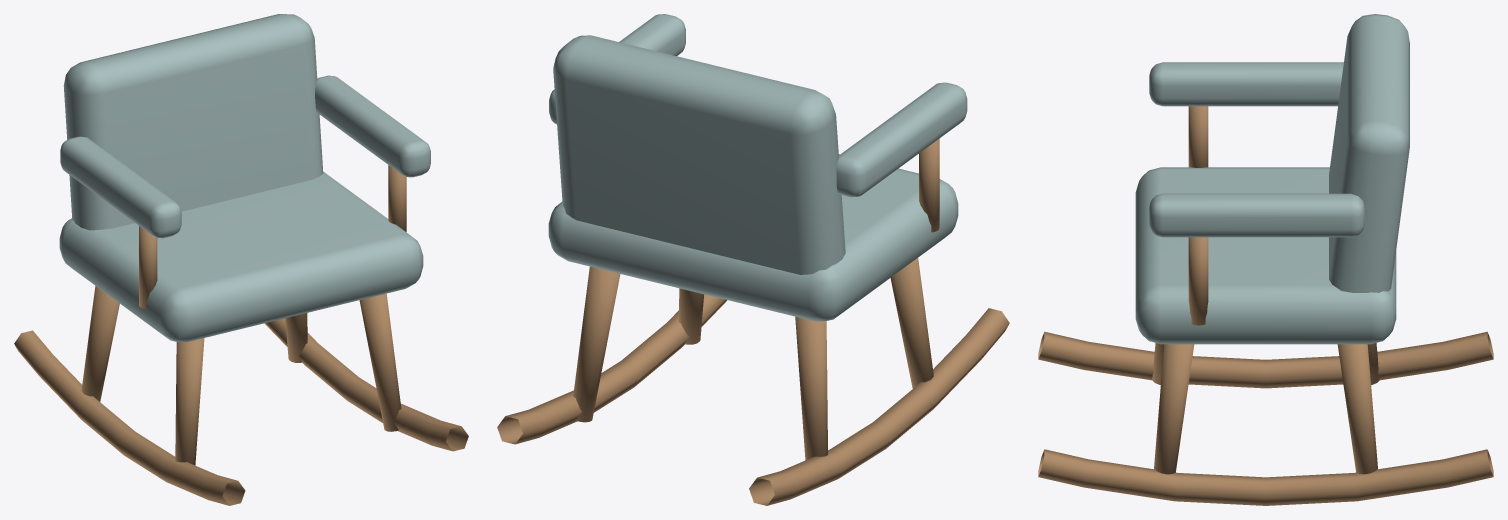
The model's file is atelier-rocking-chair.glb.
3 views of the same model, side by side, from view 1: azimuth 30°, elevation 25°; view 2: azimuth 150°, elevation 25°; view 3: azimuth 270°, elevation 25° (orthographic). The views are drawn at different scales.
Parts seen in each view (by area): view 1: fabric.011, legs.011; view 2: fabric.011, legs.011; view 3: fabric.011, legs.011.
Boxes of the visible parts, <box> form: fabric.011: <box>59,14,430,342</box>; legs.011: <box>14,165,468,505</box>; fabric.011: <box>548,14,967,321</box>; legs.011: <box>497,138,1009,505</box>; fabric.011: <box>1135,14,1409,344</box>; legs.011: <box>1038,106,1493,505</box>.
Bounding box in the file's own units: 0.7762 × 0.9227 × 1.01.
